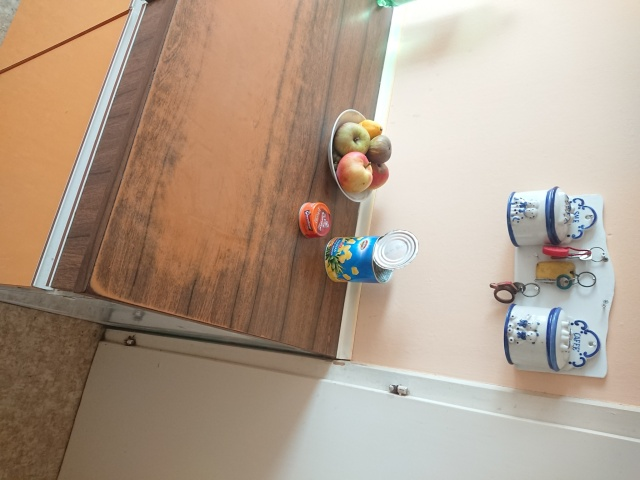Gavrilovic Pork Liver Pate 100g: (296, 200, 332, 238)
